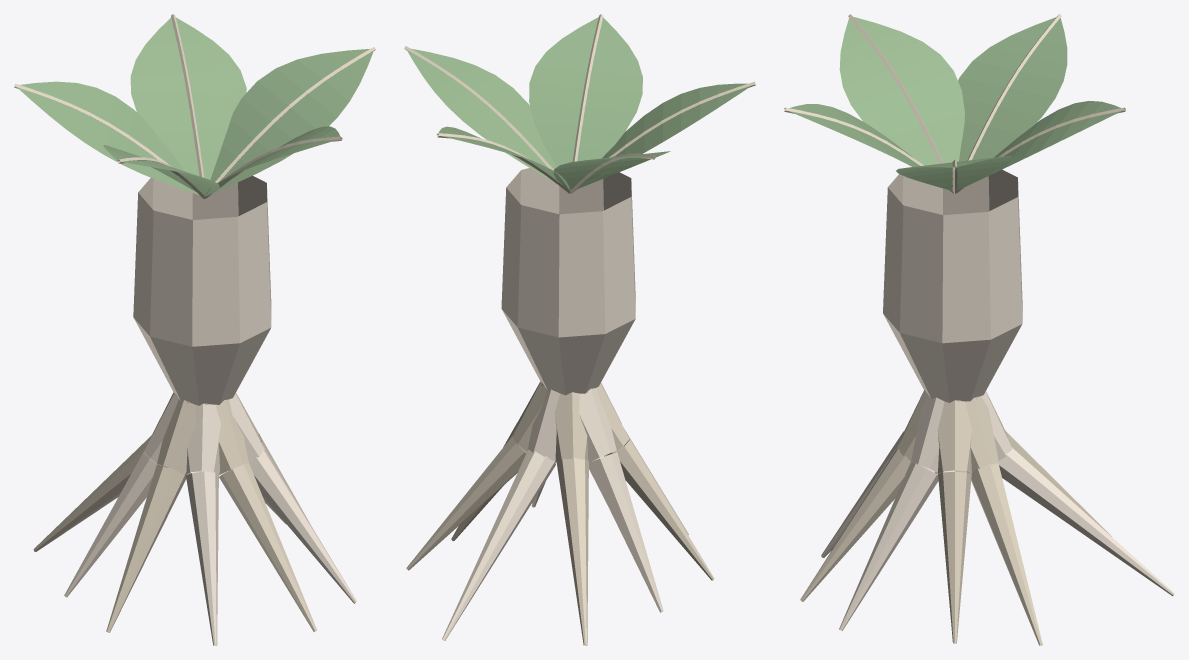
The model's file is ginseng.glb.
3 views of the same model, side by side, from view 1: azimuth 30°, elevation 25°; view 2: azimuth 150°, elevation 25°; view 3: azimuth 270°, elevation 25° (orthographic). The views are drawn at different scales.
Parts seen in each view (by area): view 1: ginseng; view 2: ginseng; view 3: ginseng.
Part boxes in pixels (box(x1,y1,x2,y2)): ginseng: box(14, 14, 375, 645); ginseng: box(404, 14, 755, 645); ginseng: box(784, 14, 1174, 645).
Size of the model in its own units: 0.7276 by 1.12 by 0.7867.
